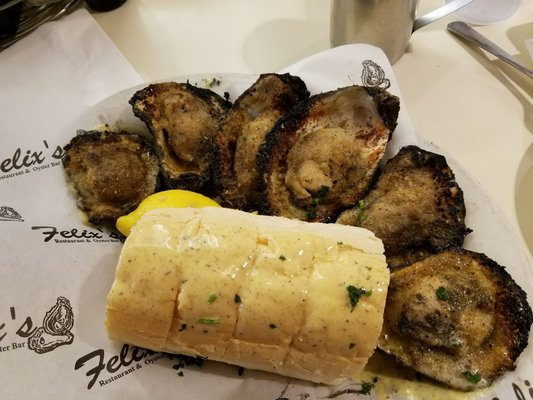pizza: (330, 0, 419, 65)
